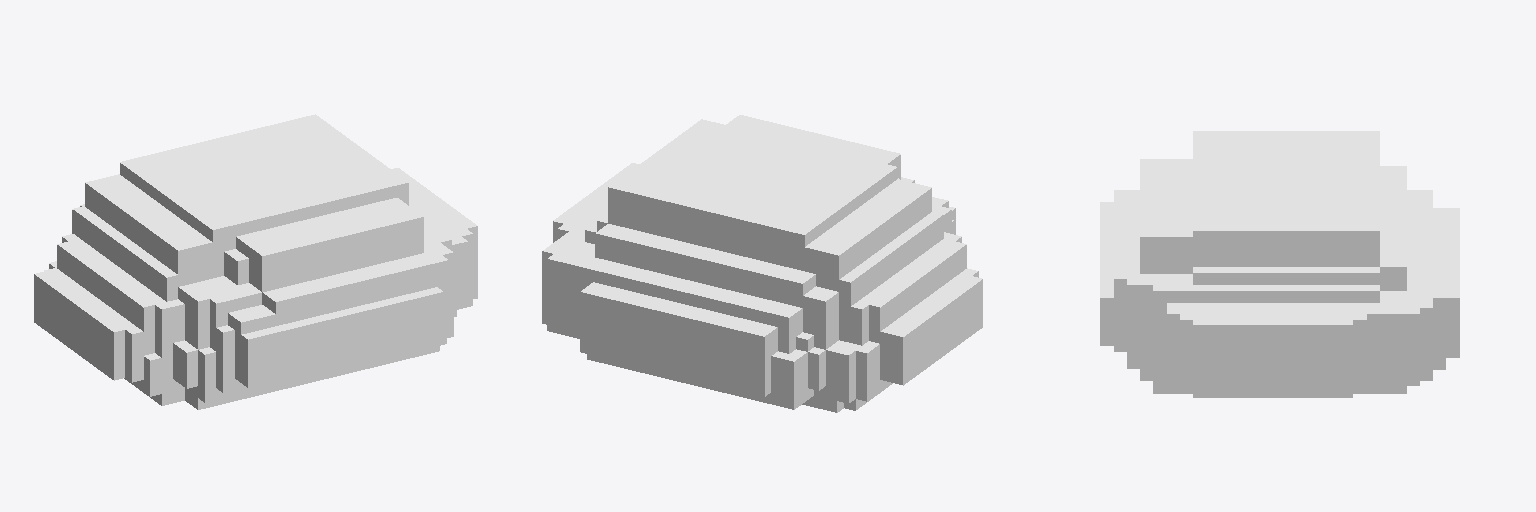
Rendered from env_rocks3.obj.
3 views of the same model, side by side, from view 1: azimuth 30°, elevation 25°; view 2: azimuth 150°, elevation 25°; view 3: azimuth 270°, elevation 25° (orthographic).
Visible parts, largest first — view 1: object 1; view 2: object 1; view 3: object 1.
Part boxes in pixels (bbox=[...]): object 1: bbox=[34, 114, 477, 409]; object 1: bbox=[542, 115, 982, 412]; object 1: bbox=[1100, 131, 1459, 397].
Bounding box in the file's own units: 3.1 × 1.3 × 2.7.